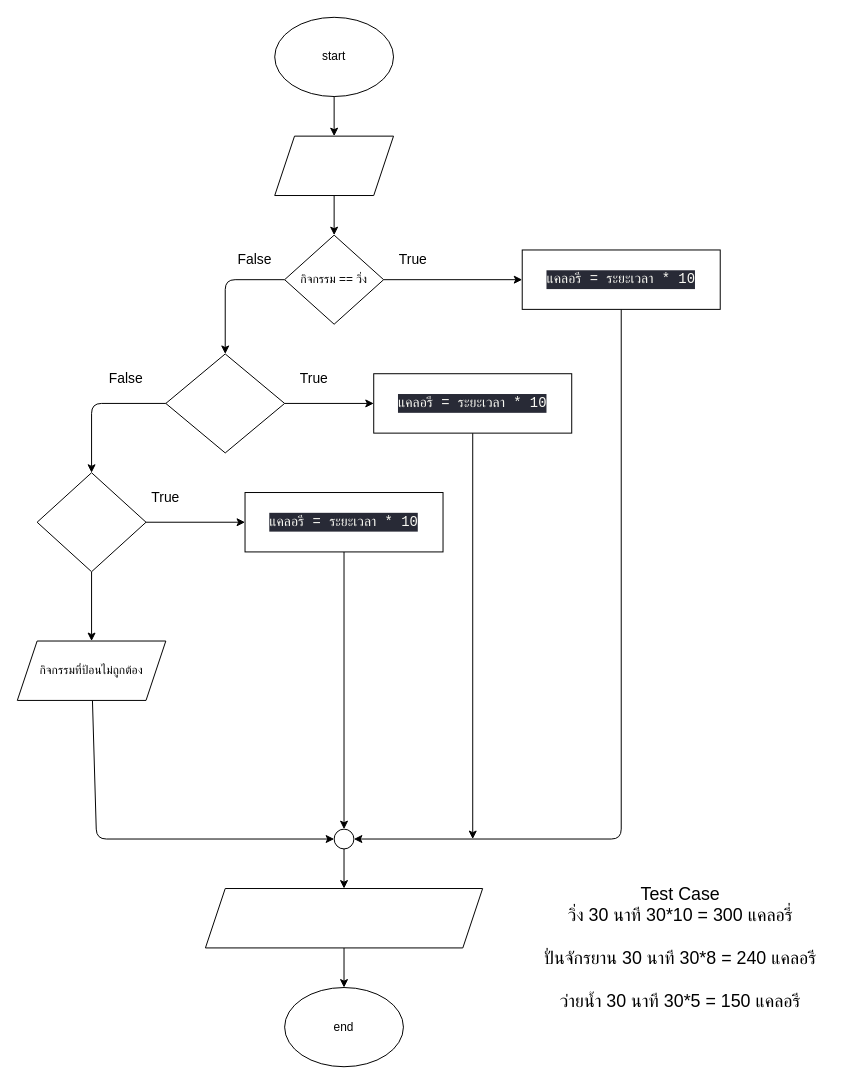
Some shapes in this 866 by 1084 pixel diagram are drawn without their labels. Here are the shapes that lost their labels. From the top down, the centre of each, then its label:
At (334,165): "กิจกรรม (วิ่ง, ปั่นจักรยาน, ว่ายน้ำ)".
At (225,403): "กิจกรรม == ปั่นจักรยาน".
At (91,522): "กิจกรรม == ว่ายน้ำ".
At (343,918): "แสดง แคลอรีที่เผาผลาญรวมแคลอรี".
